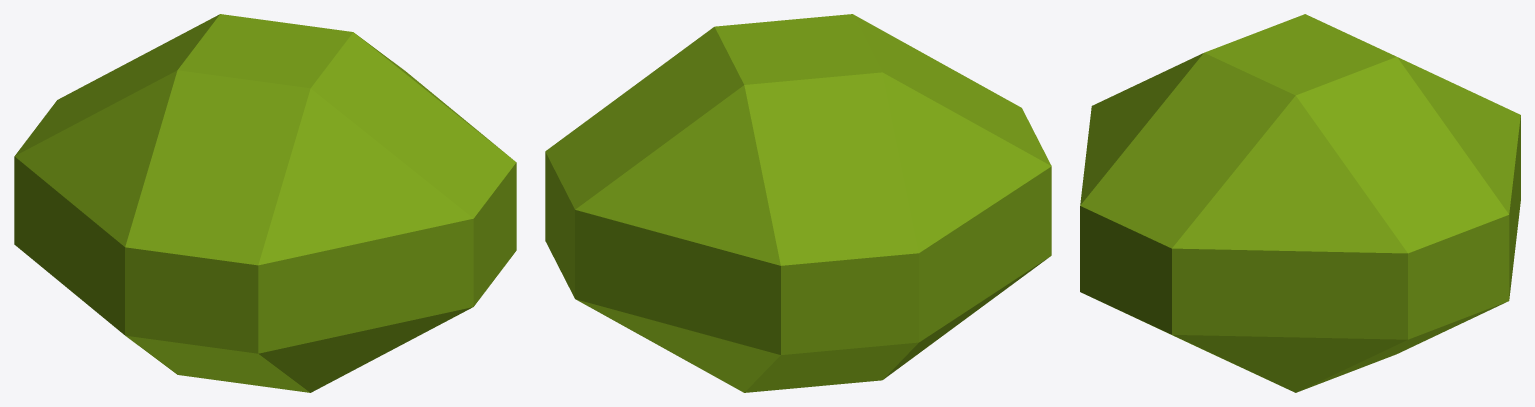
The model's file is tree-summer-leaves-022.glb.
The picture shows the model from 3 angles, left to right: view 1: azimuth 30°, elevation 25°; view 2: azimuth 150°, elevation 25°; view 3: azimuth 270°, elevation 25°; orthographic projection. The views are drawn at different scales.
Visible parts, largest first — view 1: Cube.020_248; view 2: Cube.020_248; view 3: Cube.020_248.
Part boxes in pixels (x1=…): Cube.020_248: x1=14, y1=14, x2=516, y2=392; Cube.020_248: x1=545, y1=14, x2=1051, y2=392; Cube.020_248: x1=1080, y1=14, x2=1520, y2=392.
Bounding box in the file's own units: 0.6002 × 0.447 × 0.6002.
